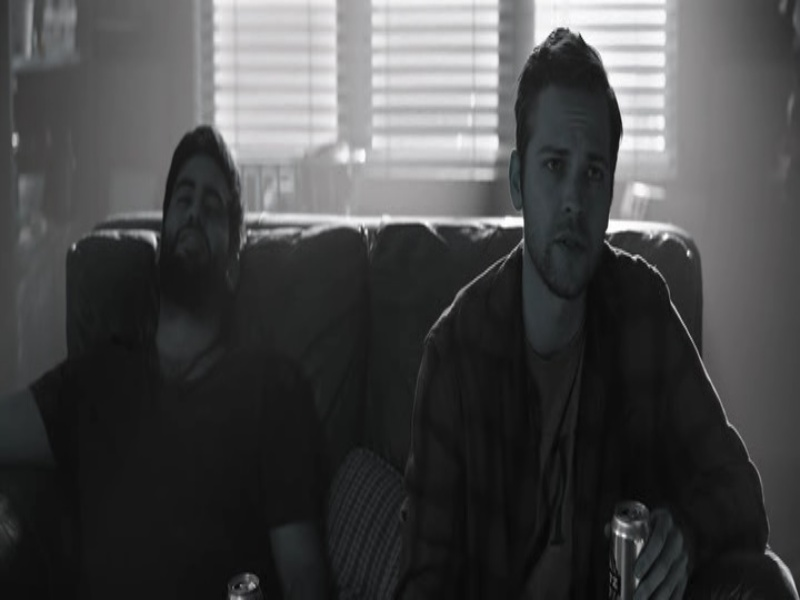TsisyArotava: (507, 47, 620, 320), (144, 134, 238, 308)
